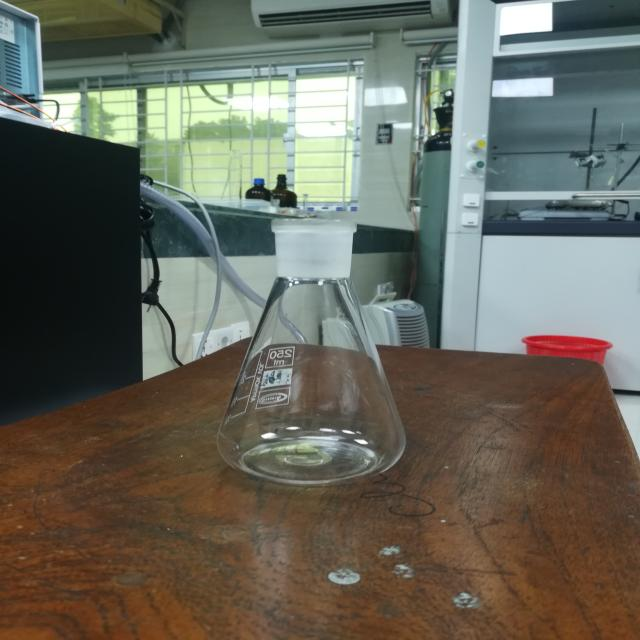Conical_Flask: (188, 205, 446, 507)
